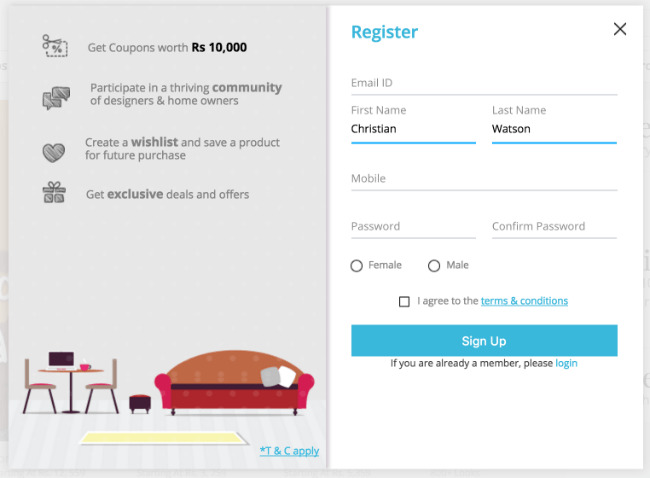_form_: (329, 37, 639, 384)
button: (350, 324, 619, 356)
checkbox: (398, 295, 410, 309)
checkbox_with_label: (395, 293, 568, 312)
field_line: (348, 75, 619, 97), (350, 171, 618, 192), (488, 118, 618, 146), (347, 119, 477, 146), (349, 219, 477, 240), (491, 219, 618, 240)
field_line_with_label: (346, 105, 478, 148), (487, 104, 619, 147)
radio: (427, 258, 442, 273), (350, 258, 364, 274)
radio_with_label: (347, 255, 403, 276), (423, 256, 471, 276)
